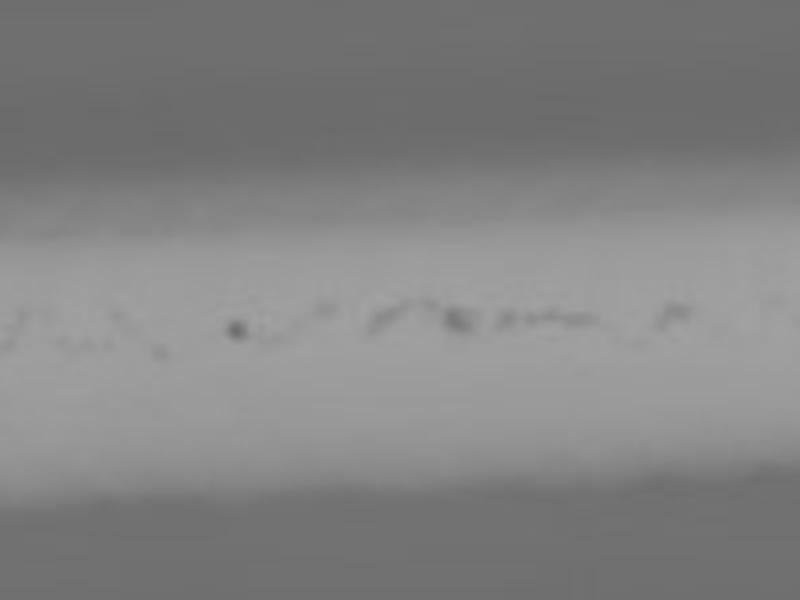defect: (306, 296, 339, 324), (445, 306, 478, 334), (522, 304, 557, 329), (368, 305, 398, 331), (558, 310, 595, 327), (226, 319, 251, 343), (664, 302, 691, 323), (646, 314, 672, 335), (107, 302, 128, 326), (50, 333, 71, 354), (497, 307, 518, 328), (148, 341, 170, 361), (422, 294, 442, 314), (78, 334, 96, 355), (101, 336, 118, 354), (15, 309, 32, 326), (2, 337, 14, 358)
